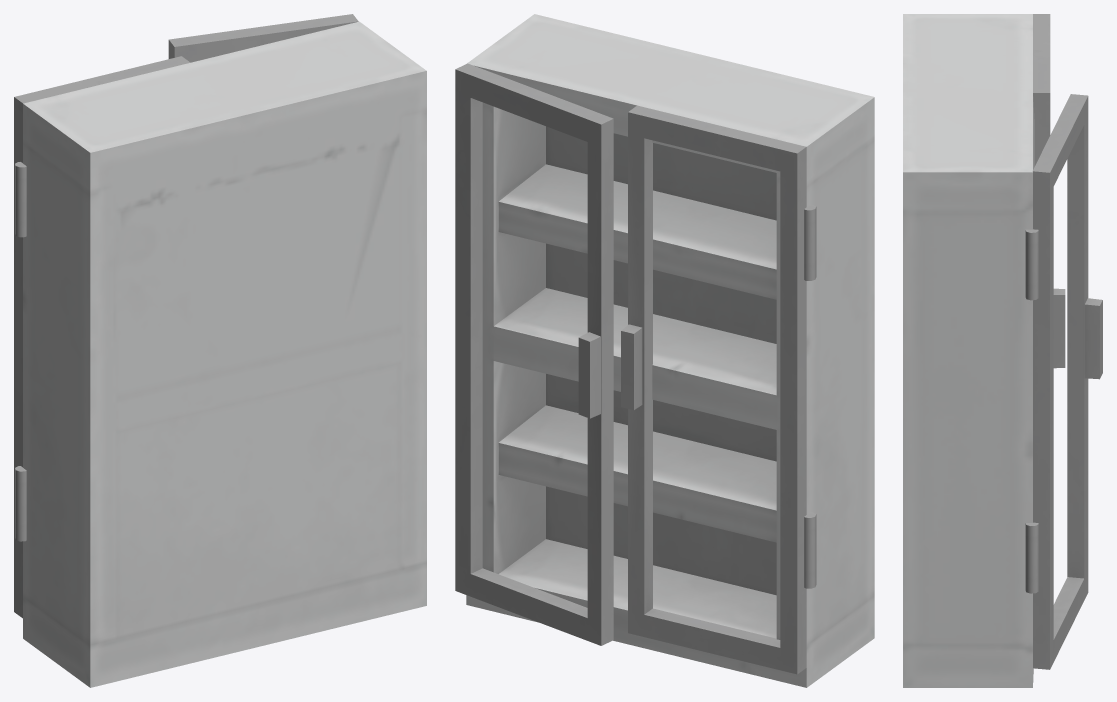
The model's file is Pfb_Indoors_Study_Shelf_JLAB04__3.fbx.
3 renders of one model, left to right at view 1: azimuth 30°, elevation 25°; view 2: azimuth 150°, elevation 25°; view 3: azimuth 270°, elevation 25°, orthographic. The views are drawn at different scales.
Parts seen in each view (by area): view 1: Mat_Indoors_Study_01_2_JLAB 1, MAT_Shop_Refridge_01_JLAB; view 2: Mat_Indoors_Study_01_2_JLAB 1, MAT_Shop_Refridge_01_JLAB; view 3: Mat_Indoors_Study_01_2_JLAB 1, MAT_Shop_Refridge_01_JLAB.
Part boxes in pixels (x1=…): Mat_Indoors_Study_01_2_JLAB 1: x1=23, y1=21, x2=426, y2=687; MAT_Shop_Refridge_01_JLAB: x1=14, y1=14, x2=358, y2=618; Mat_Indoors_Study_01_2_JLAB 1: x1=466, y1=14, x2=874, y2=687; MAT_Shop_Refridge_01_JLAB: x1=455, y1=63, x2=816, y2=674; Mat_Indoors_Study_01_2_JLAB 1: x1=903, y1=14, x2=1034, y2=687; MAT_Shop_Refridge_01_JLAB: x1=1025, y1=14, x2=1102, y2=669.
Bounding box in the file's own units: 1.84 × 2.69 × 0.9419.
2 materials, 2 textured.
